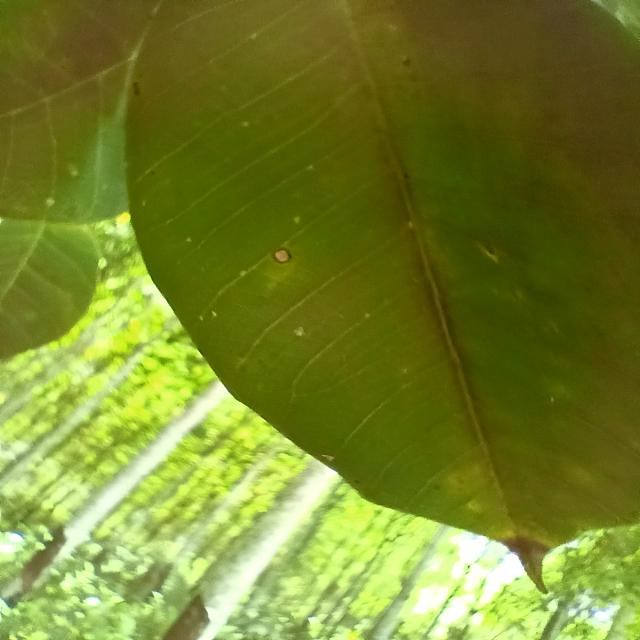Leaf-Blight: (272, 248, 292, 264)
